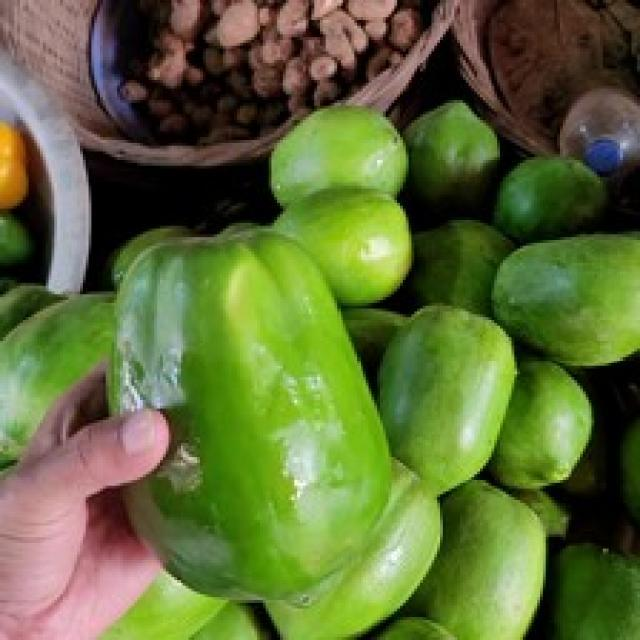Pepaya unrippen: (99, 231, 404, 614)
